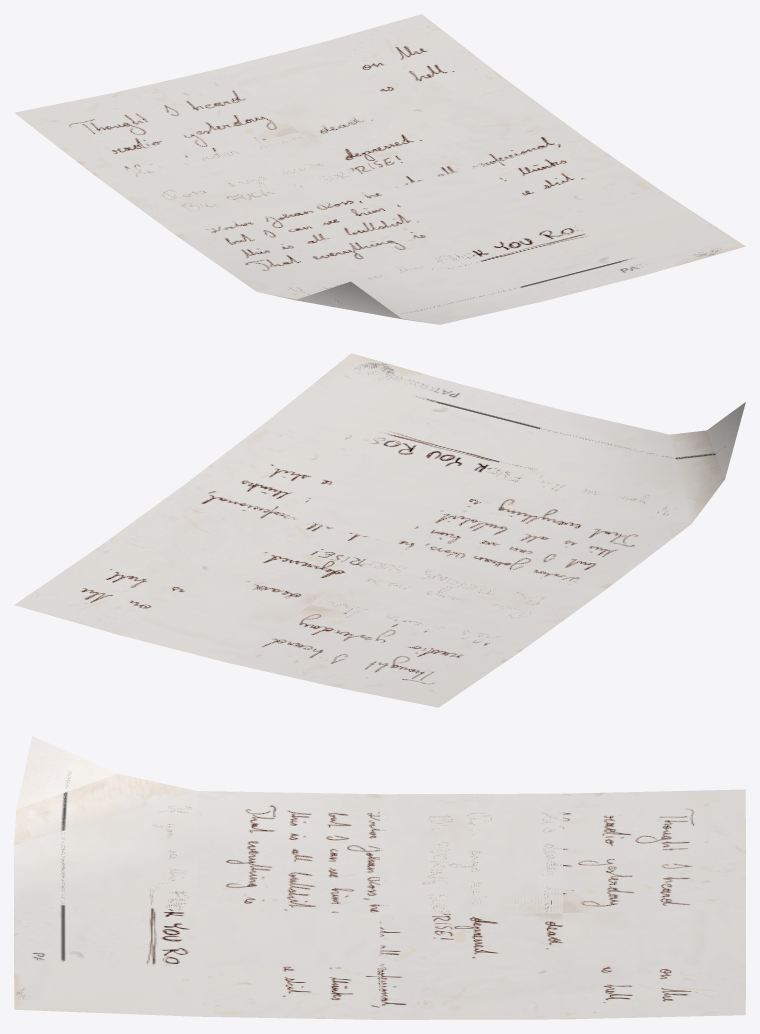
Rendered from note_comroom_tau_02.dae.
The picture shows the model from 3 angles, top to bottom: view 1: azimuth 30°, elevation 25°; view 2: azimuth 150°, elevation 25°; view 3: azimuth 270°, elevation 25°; orthographic projection. The views are drawn at different scales.
Parts seen in each view (by area): view 1: tau_note; view 2: tau_note; view 3: tau_note.
Part boxes in pixels (x1,y1,x2,y2): tau_note: (14,14,745,324); tau_note: (14,353,745,707); tau_note: (14,736,745,1019).
Size of the model in its own units: 0.2536 by 0.0404 by 0.3491.
